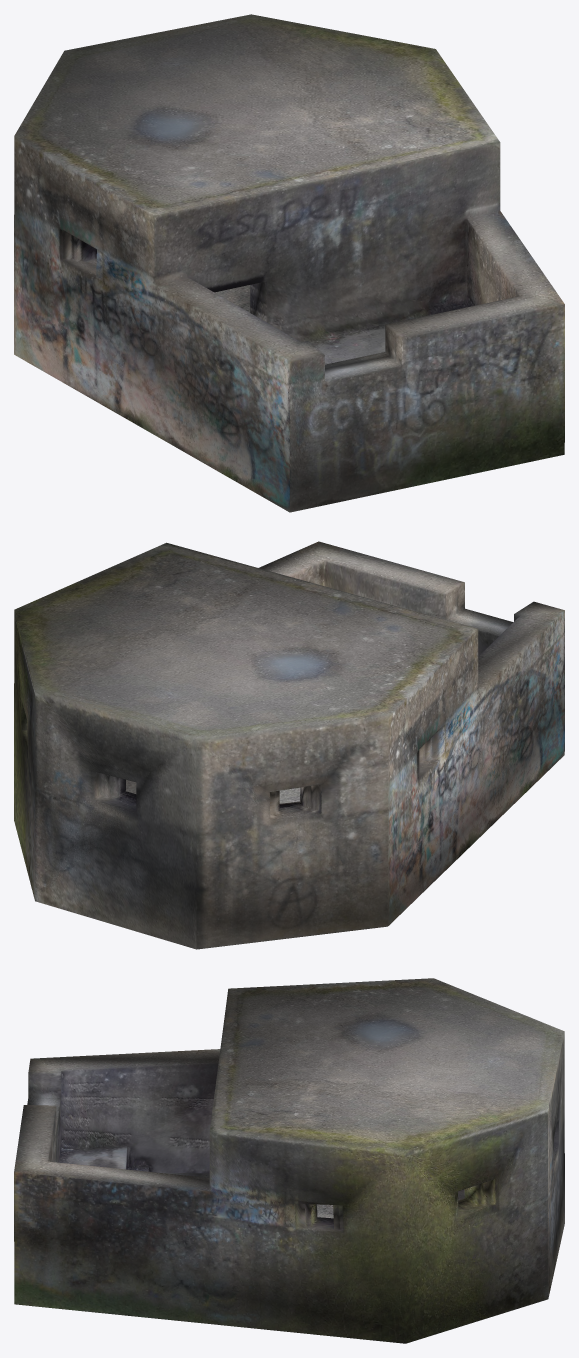
The model's file is Bunker.obj.
3 views of the same model, one above another, from view 1: azimuth 30°, elevation 25°; view 2: azimuth 150°, elevation 25°; view 3: azimuth 270°, elevation 25° (orthographic). The views are drawn at different scales.
Parts seen in each view (by area): view 1: default; view 2: default; view 3: default.
Boxes of the visible parts, x1,y1,x2,y2 form: default: (14, 14, 564, 512); default: (14, 541, 564, 949); default: (14, 978, 564, 1343).
Bounding box in the file's own units: 6.2 × 3.22 × 8.32.
1 material, 1 textured.
